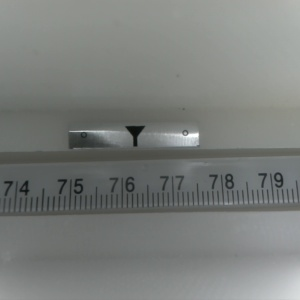4: (19, 180, 30, 196)
5: (73, 179, 83, 194)
6: (124, 176, 135, 192)
7: (2, 180, 13, 196), (56, 179, 66, 195), (257, 173, 267, 188), (159, 176, 169, 191), (174, 175, 184, 190), (109, 177, 119, 192), (209, 175, 218, 189)
8: (224, 174, 233, 189)
9: (274, 173, 283, 188)
finger: (123, 126, 145, 148)
